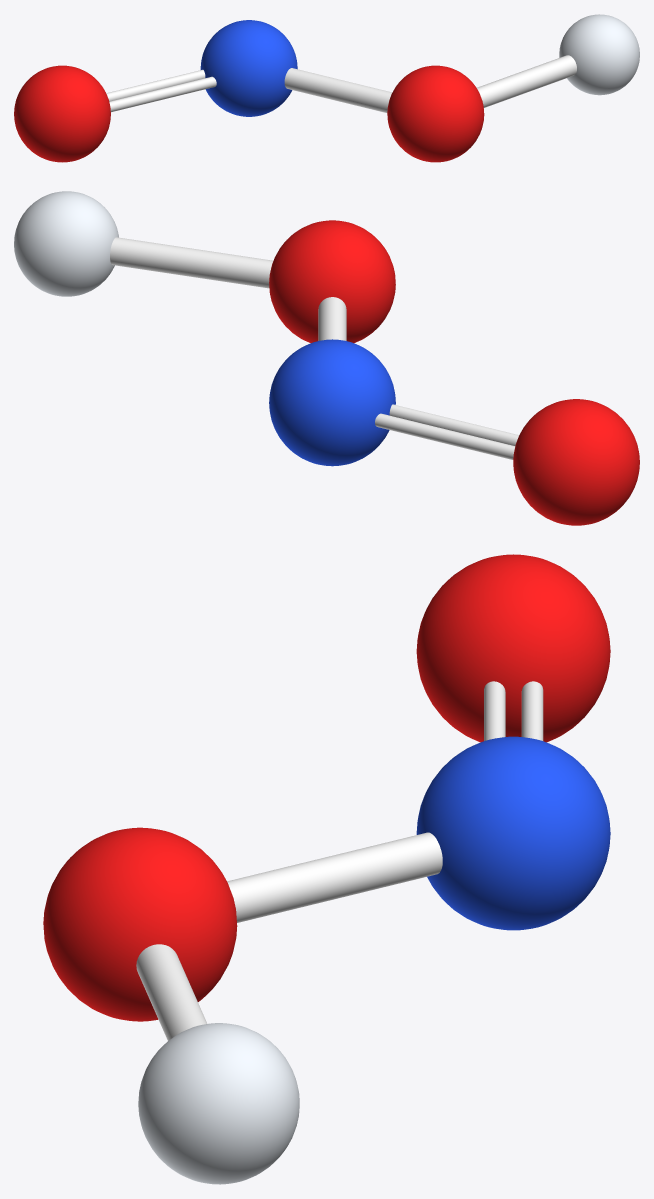
File: nitrous_acid.fbx
3 views of the same model, one above another, from view 1: azimuth 30°, elevation 25°; view 2: azimuth 150°, elevation 25°; view 3: azimuth 270°, elevation 25° (orthographic). The views are drawn at different scales.
Visible parts, largest first — view 1: nitrous_acid; view 2: nitrous_acid; view 3: nitrous_acid.
Boxes of the visible parts, box(x1,y1,x2,y2) form: nitrous_acid: box(14, 14, 639, 162); nitrous_acid: box(14, 191, 639, 525); nitrous_acid: box(43, 554, 610, 1184).
Size of the model in its own units: 232 by 36 by 105.
